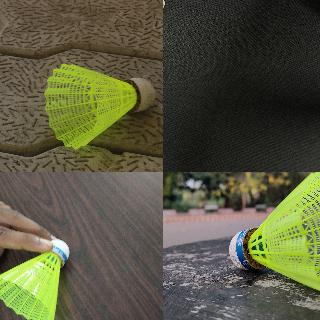shuttlecock: (228, 172, 319, 303), (44, 63, 154, 149), (0, 242, 70, 319)
